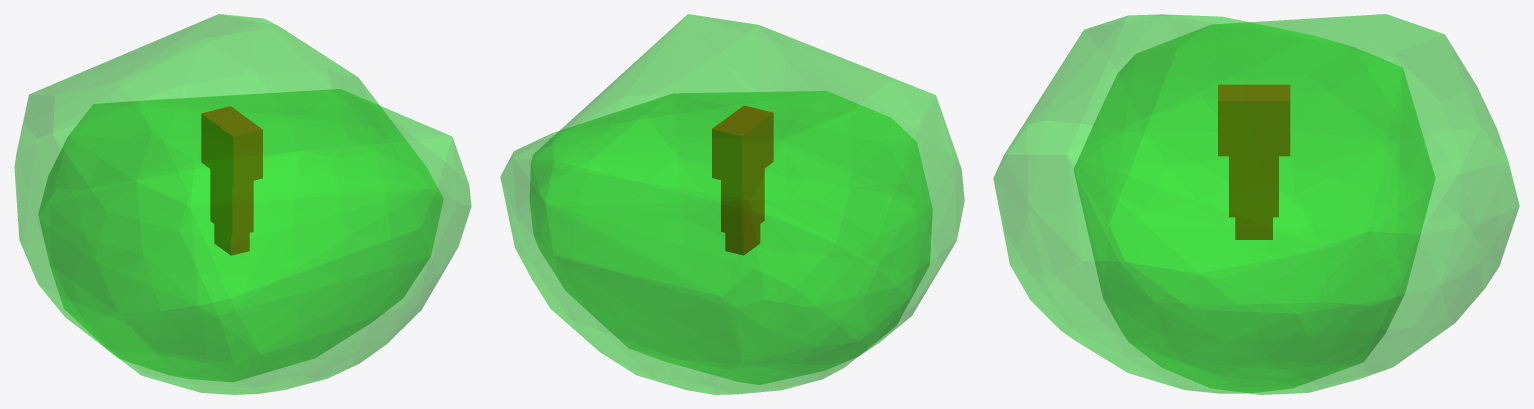
Rendered from Pelvis_view.dae.
The picture shows the model from 3 angles, left to right: view 1: azimuth 30°, elevation 25°; view 2: azimuth 150°, elevation 25°; view 3: azimuth 270°, elevation 25°; orthographic projection. The views are drawn at different scales.
Parts seen in each view (by area): view 1: Lfoot_Rom, Rfoot_Rom, Cube, Cube_002; view 2: Rfoot_Rom, Lfoot_Rom, Cube, Cube_002; view 3: Lfoot_Rom, Rfoot_Rom, Cube, Cube_002.
Part boxes in pixels (box(x1,y1,x2,y2)): Lfoot_Rom: box(14, 14, 443, 381); Rfoot_Rom: box(38, 89, 471, 394); Cube: box(201, 106, 262, 236); Cube_002: box(214, 224, 249, 255); Rfoot_Rom: box(530, 14, 964, 384); Lfoot_Rom: box(500, 91, 932, 394); Cube: box(712, 105, 773, 236); Cube_002: box(725, 224, 760, 255); Lfoot_Rom: box(1074, 14, 1519, 394); Rfoot_Rom: box(993, 14, 1435, 393); Cube: box(1218, 84, 1290, 217); Cube_002: box(1235, 217, 1272, 239).
Size of the model in its own units: 1.82 by 2.06 by 1.33.
